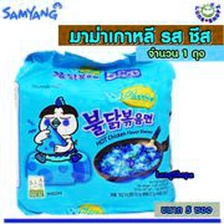snack: (5, 42, 182, 219)
